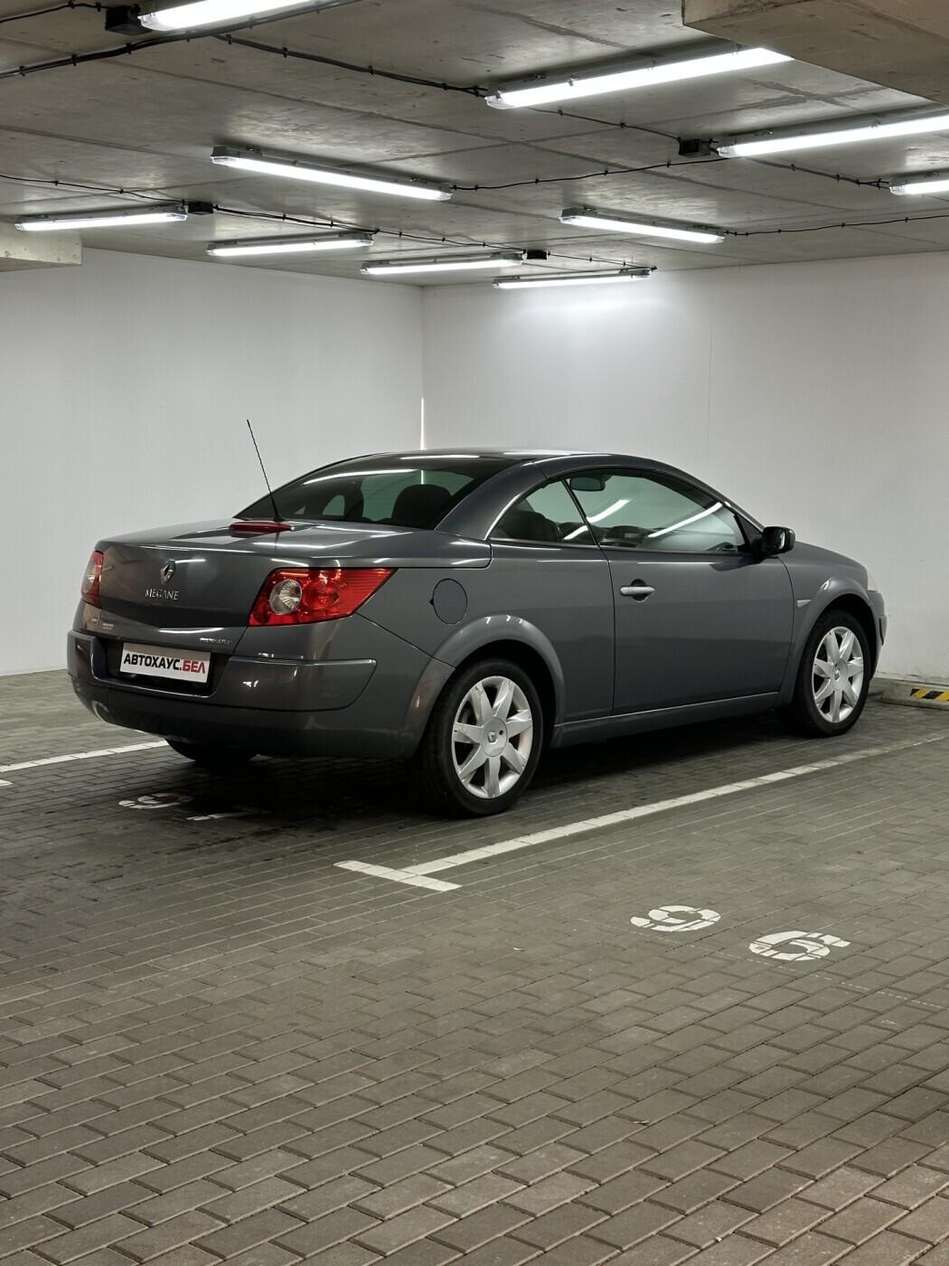Megane_2005-2009: (65, 439, 909, 850)
